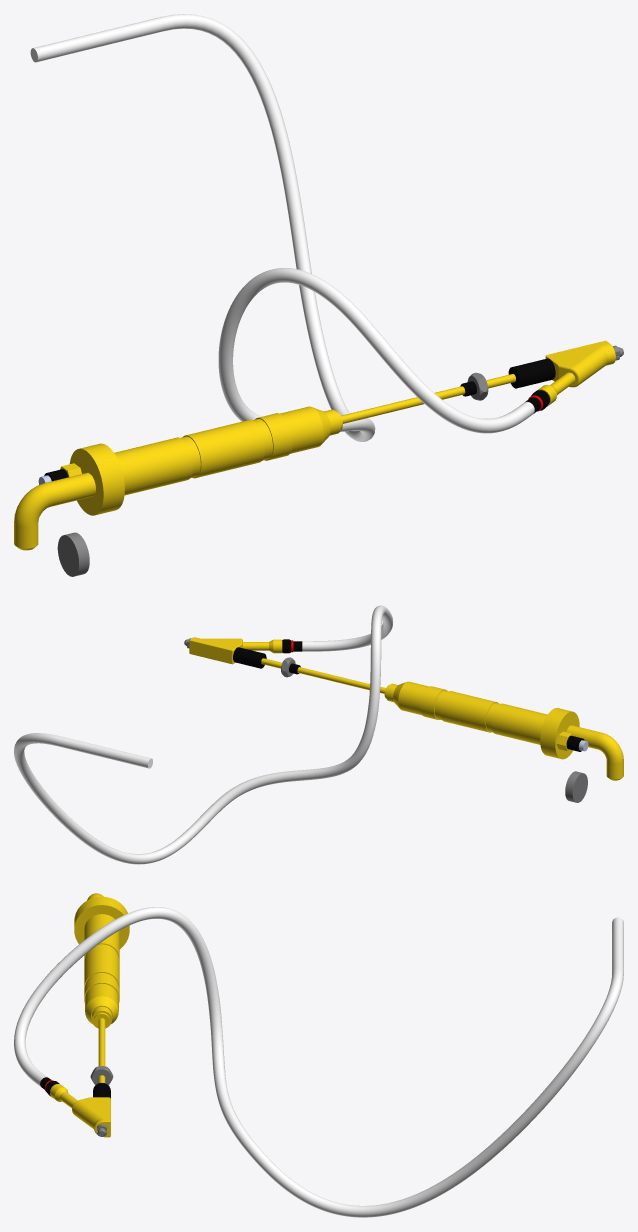
The model's file is Pin_Insertion_Floating_X.obj.
3 views of the same model, one above another, from view 1: azimuth 30°, elevation 25°; view 2: azimuth 150°, elevation 25°; view 3: azimuth 270°, elevation 25° (orthographic). The views are drawn at different scales.
Parts seen in each view (by area): view 1: Estrusione_Estrusione72, Sweep7, Raccordo11_Estrusione_Estrusione65_Estrusione_Estrusione52_Specc, Estrusione_Estrusione10_Taglio_Estrusione21_2__Smusso15_Taglio_E; view 2: Estrusione_Estrusione72, Sweep7, Raccordo11_Estrusione_Estrusione65_Estrusione_Estrusione52_Specc, Estrusione_Estrusione10_Taglio_Estrusione21_2__Smusso15_Taglio_E; view 3: Sweep7, Estrusione_Estrusione72.
Boxes of the visible parts, bbox=[...] form: Estrusione_Estrusione72: bbox=[14, 340, 615, 550]; Sweep7: bbox=[30, 14, 534, 441]; Raccordo11_Estrusione_Estrusione65_Estrusione_Estrusione52_Specc: bbox=[44, 358, 555, 481]; Estrusione_Estrusione10_Taglio_Estrusione21_2__Smusso15_Taglio_E: bbox=[57, 345, 623, 576]; Estrusione_Estrusione72: bbox=[189, 637, 623, 780]; Sweep7: bbox=[14, 605, 393, 864]; Raccordo11_Estrusione_Estrusione65_Estrusione_Estrusione52_Specc: bbox=[233, 639, 584, 751]; Estrusione_Estrusione10_Taglio_Estrusione21_2__Smusso15_Taglio_E: bbox=[184, 638, 587, 802]; Sweep7: bbox=[14, 907, 623, 1217]; Estrusione_Estrusione72: bbox=[50, 893, 129, 1137].
Size of the model in its own units: 575 by 267 by 615.
